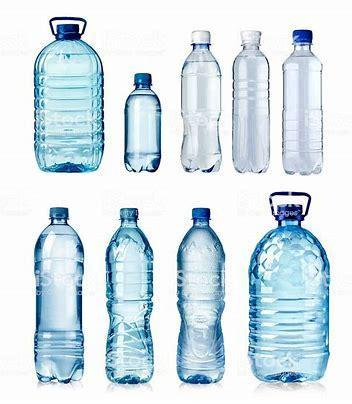plastic_bottle: (245, 188, 334, 387), (29, 12, 113, 178), (98, 202, 161, 390), (174, 202, 232, 388), (32, 203, 89, 388), (279, 28, 335, 184), (178, 24, 228, 179), (231, 25, 274, 178), (121, 71, 168, 178)
